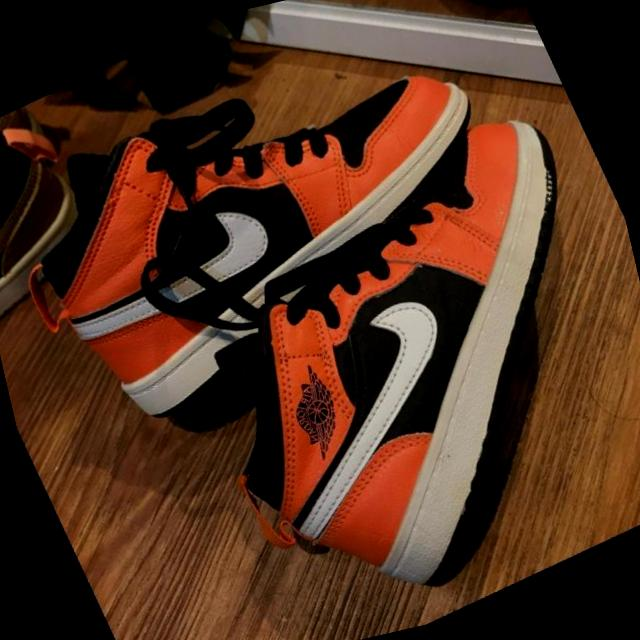nike_fake_jordan: (126, 83, 640, 640), (0, 0, 561, 459)
